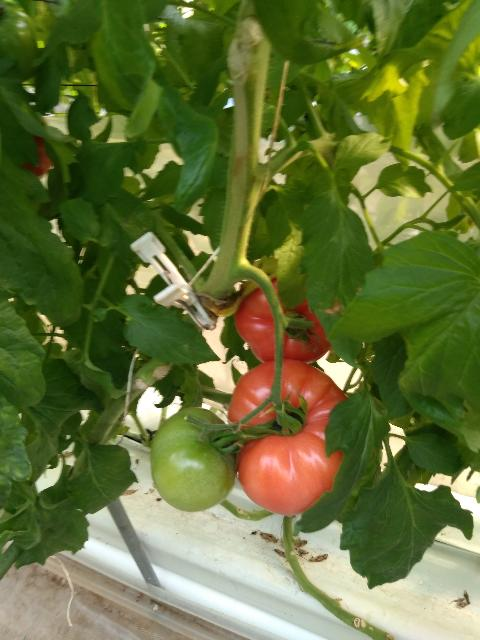b_fully_ripened: (227, 357, 356, 515), (234, 262, 332, 363)
b_green: (149, 406, 236, 513), (0, 5, 38, 81)
